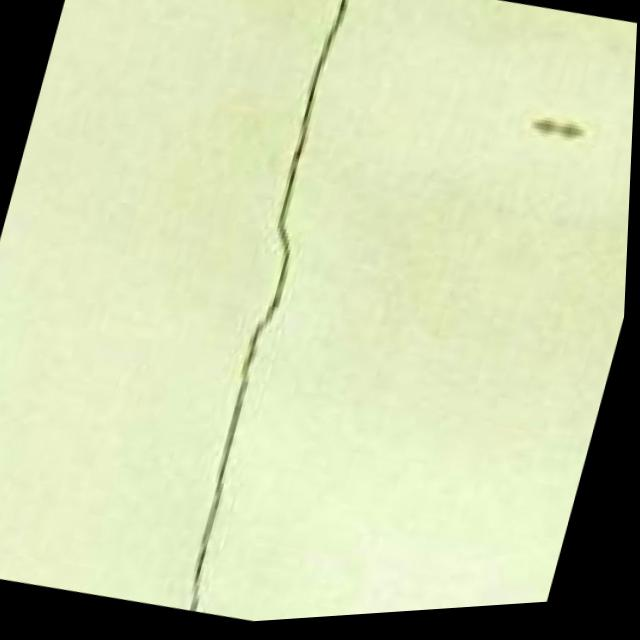Crack: (109, 0, 407, 628)
